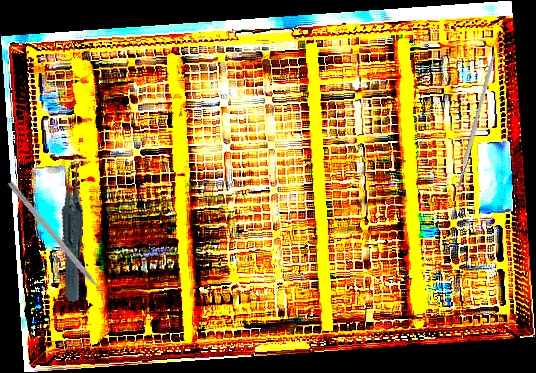Chopper: (1, 180, 111, 308)
Scalpel Handle: (454, 52, 498, 190)
Tissue Forceps: (35, 153, 116, 304)
